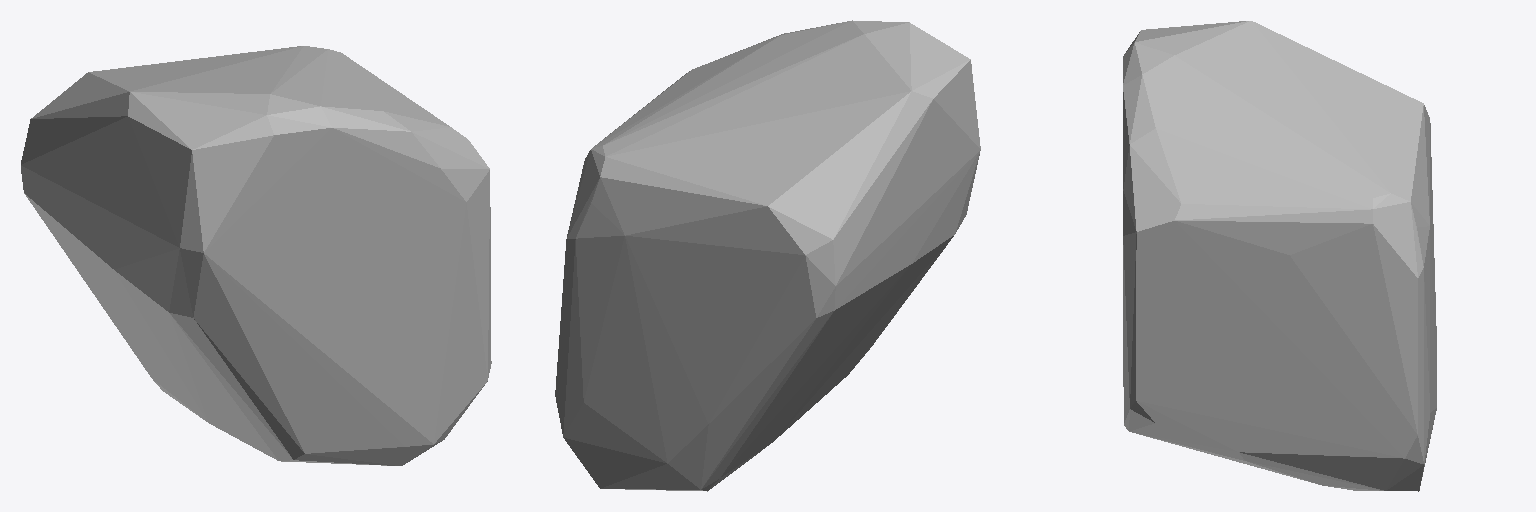
robot.urdf — root:
<robot name="root">
  <link name="link_rock14_convex_piece_0">
    <inertial>
      <origin rpy="0 0 0" xyz="0 0 0"/>
      <mass value="1.72E+06"/>
      <inertia ixx="4.02E+09" ixy="2.47E+08" ixz="-1.41E+09" iyy="4.82E+09" iyz="-6.31E+08" izz="5.13E+09"/>
    </inertial>
    <visual>
      <origin rpy="0 0 0" xyz="0 0 0"/>
      <geometry>
        <mesh filename="rock14_convex_piece_0.obj" scale="1.0000E+00 1.0000E+00 1.0000E+00"/>
      </geometry>
      <material name="">
        <color rgba="7.50E-01 7.50E-01 7.50E-01 1"/>
      </material>
    </visual>
    <collision>
      <origin rpy="0 0 0" xyz="0 0 0"/>
      <geometry>
        <mesh filename="rock14_convex_piece_0.obj" scale="1.0000E+00 1.0000E+00 1.0000E+00"/>
      </geometry>
    </collision>
  </link>
</robot>

--- Facts derived from the render (not from the file) ---
3 views of the same robot in one strip: view 1: azimuth 30°, elevation 25°; view 2: azimuth 150°, elevation 25°; view 3: azimuth 270°, elevation 25° (orthographic).
Model root with 1 links and 0 joints (none), rooted at link_rock14_convex_piece_0, posed all joints at 0.
Links seen in each view (by area): view 1: link_rock14_convex_piece_0; view 2: link_rock14_convex_piece_0; view 3: link_rock14_convex_piece_0.
Boxes of the visible links, box(x1,y1,x2,y2) form: link_rock14_convex_piece_0: box(21, 46, 491, 465); link_rock14_convex_piece_0: box(555, 20, 980, 491); link_rock14_convex_piece_0: box(1123, 21, 1436, 491).
Size in the robot's own frame: 126 by 129 by 170 metres.
1 mesh visuals loaded from 1 distinct referenced files (1 OBJ).
